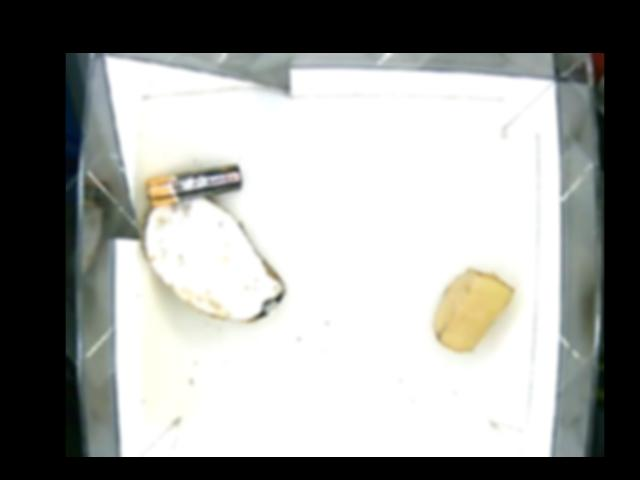Battery: (144, 161, 243, 205)
Potato: (429, 269, 514, 353)
Shell: (139, 196, 285, 324)
